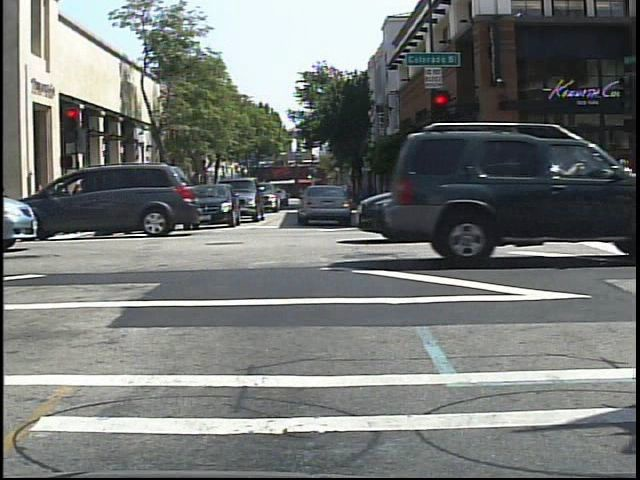person: (614, 151, 637, 224), (165, 181, 184, 221)
